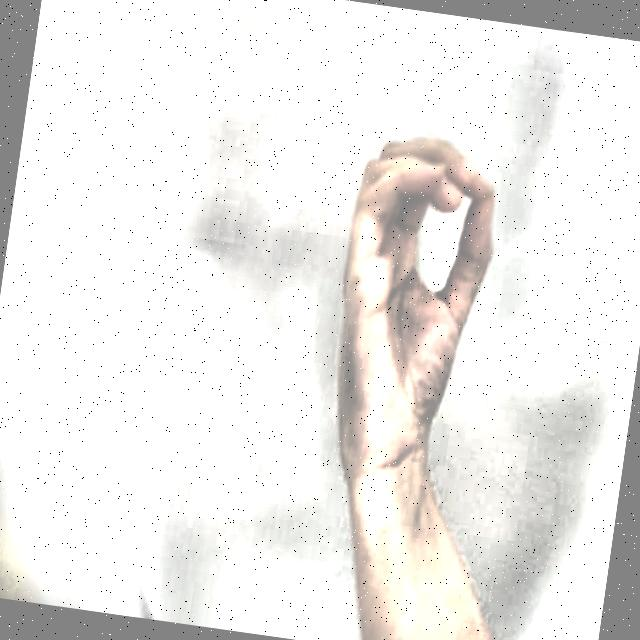O: (286, 111, 536, 494)
